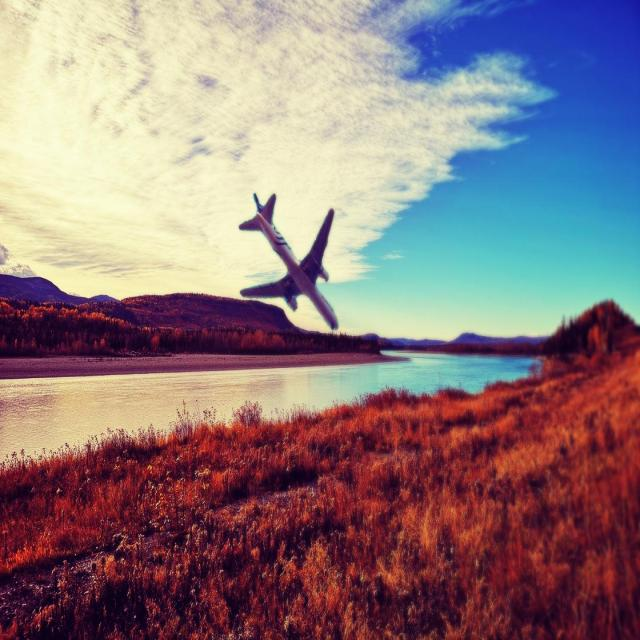airplane: (238, 191, 338, 331)
